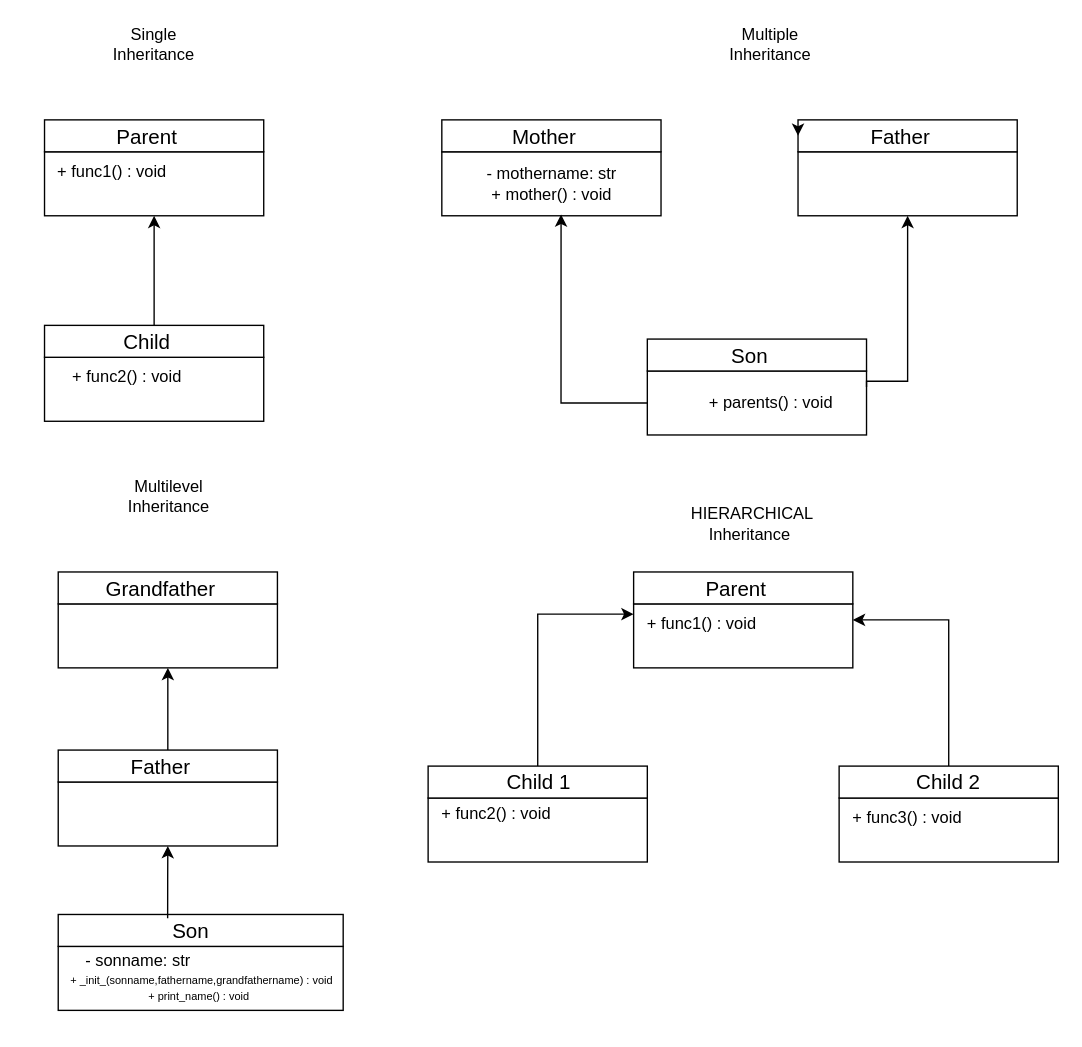
Some shapes in this 1082 by 1047 pixel diagram are drawn without their labels. The centre of each missing label's shape, as x and y in pixels:
"- fathername : str + fat her() : void" goes at (907,183).
"- fathername: str + _init_(fathername, grandfathername ) : void" goes at (167,813).
"- grandfathername: str + _init_(grandfathername) : void" goes at (167,635).
